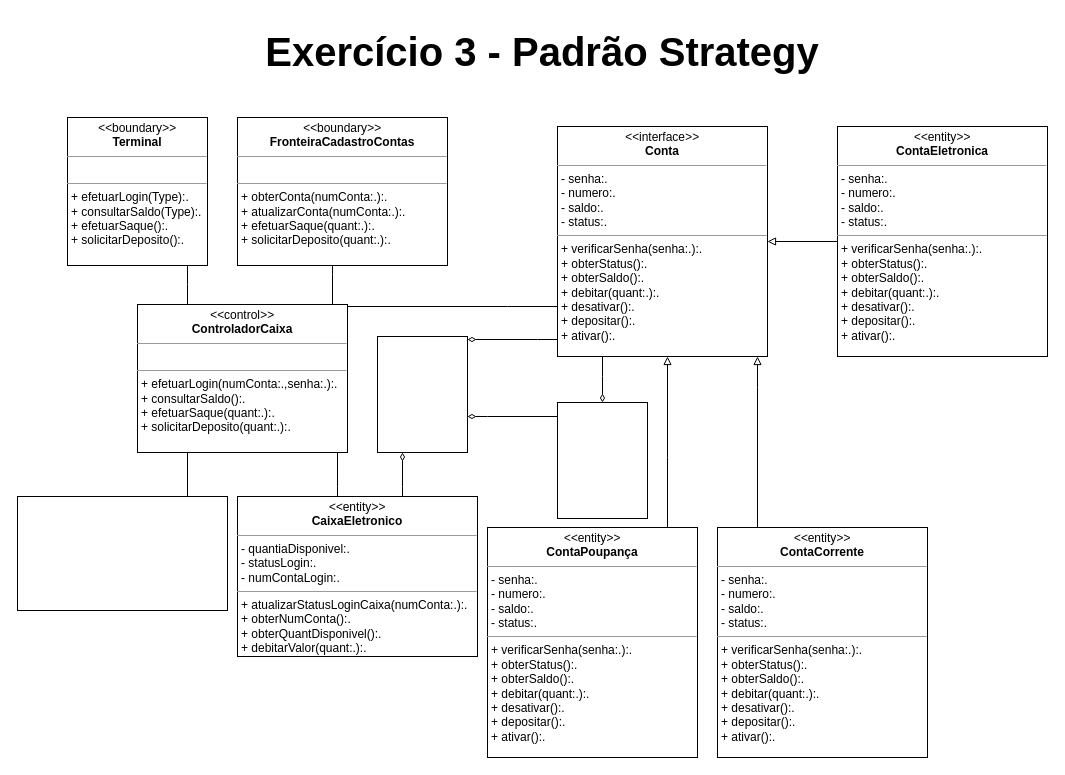
The diagram is 1065 pixels wide and 775 high, and some of its shapes have lost their labels. The centre of each missing label's shape, as x and y in pixels:
"<< boundary >> FronteiraDispensadorNotas + liberarQuantia(quant:.):." belongs at [122,553].
"<< entity >> Banco - cod:. - nome:." belongs at [422,394].
"<< entity >> FichaCliente - nome:. - RG:. - CPF:." belongs at [602,460].
